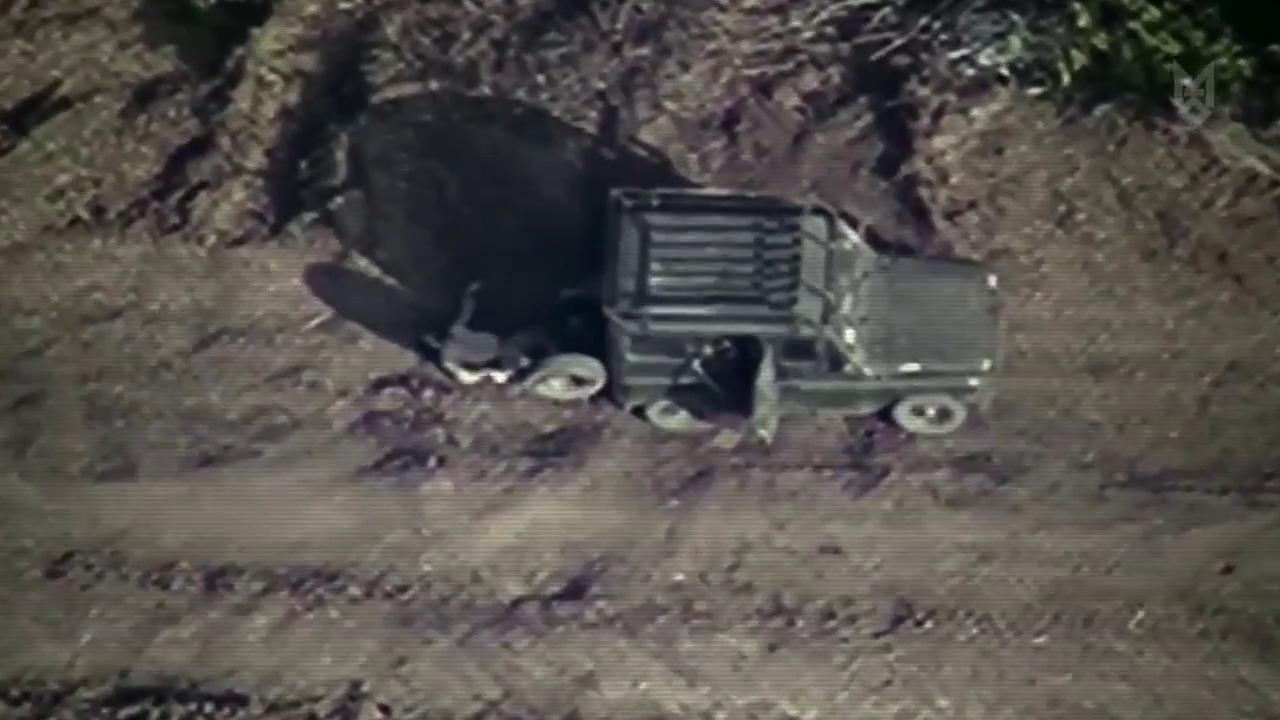tank: (598, 180, 1003, 450)
